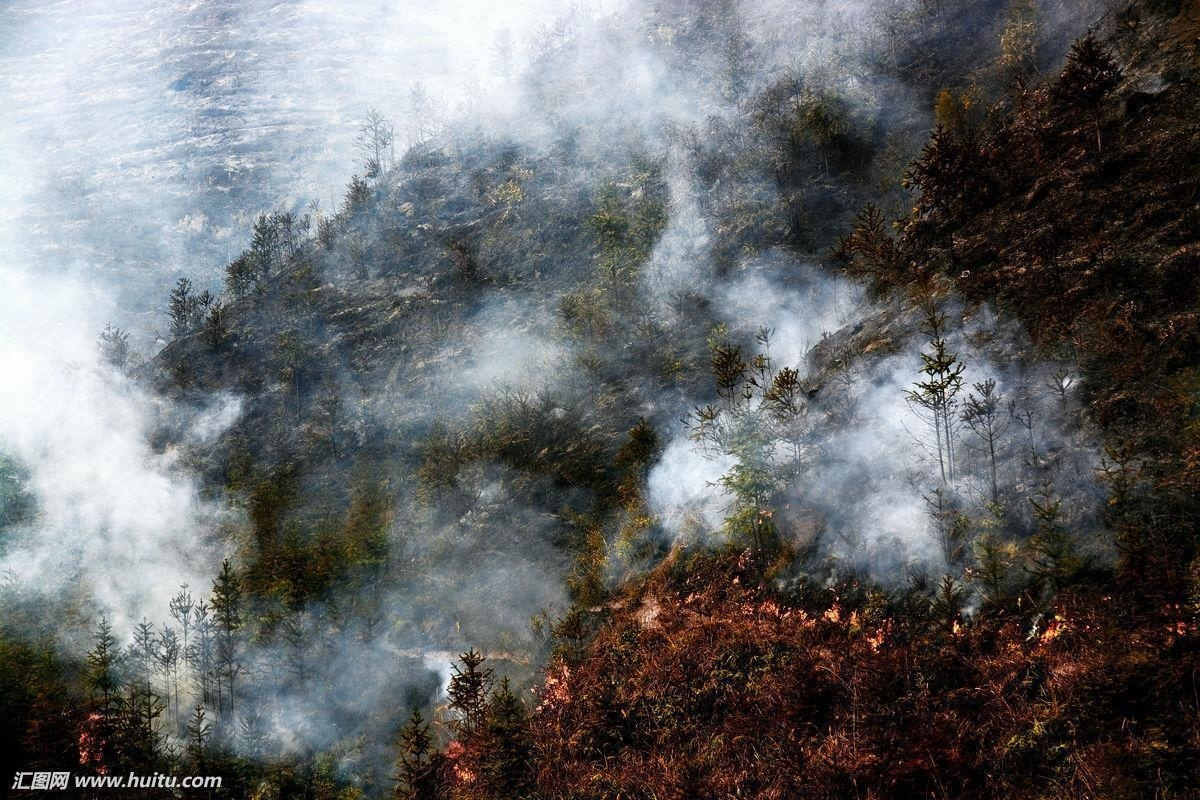fire: (757, 593, 891, 634), (535, 653, 575, 708), (438, 735, 480, 787), (71, 711, 110, 766)
